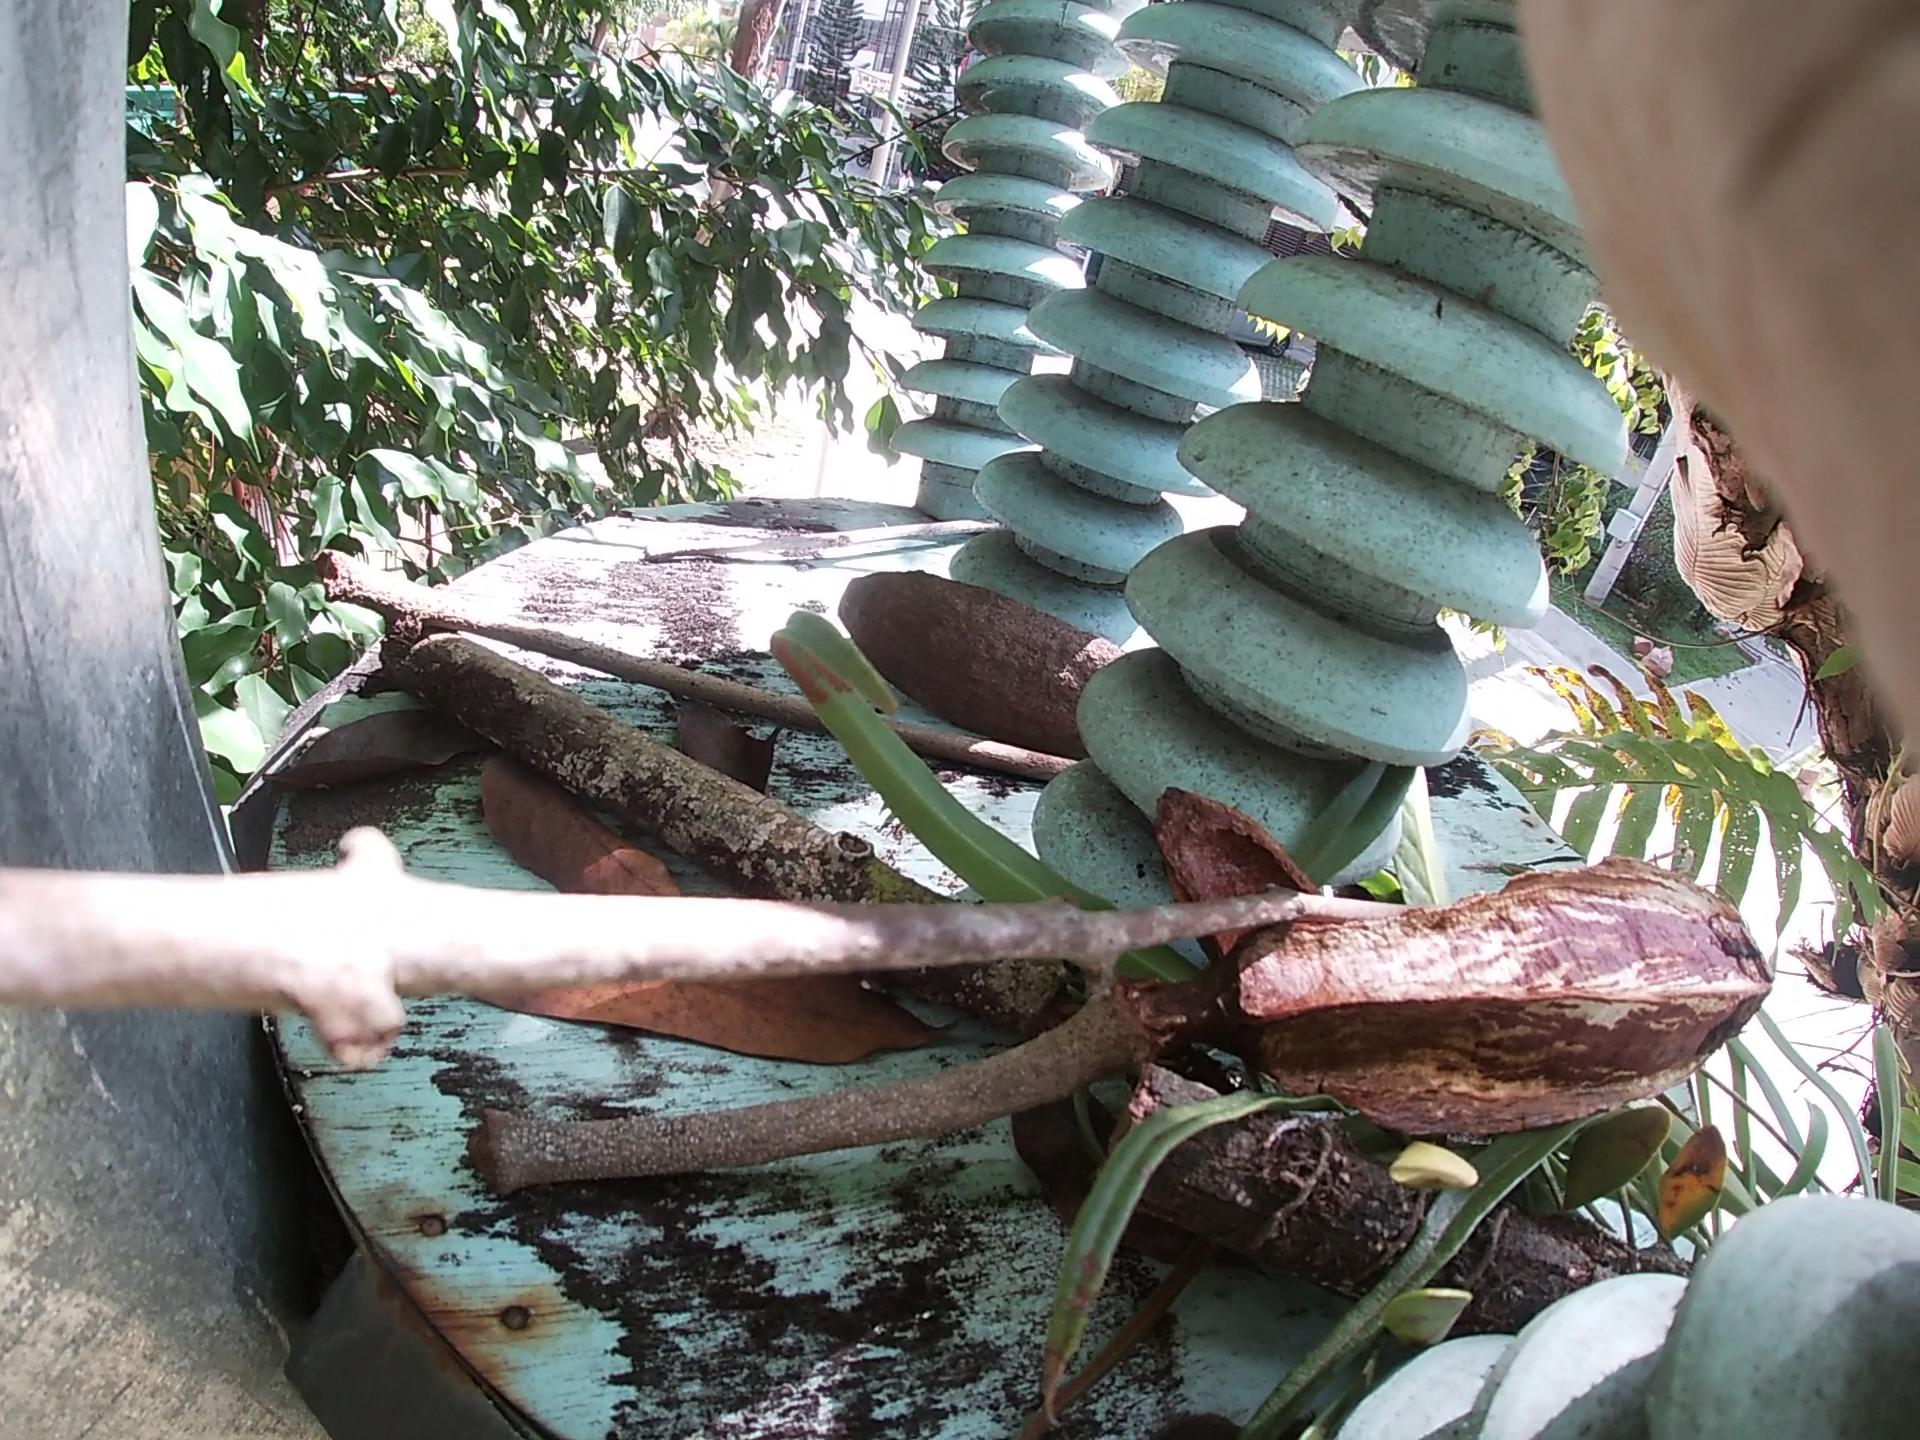branch with leaves: (408, 626, 1596, 1215)
leaf: (441, 729, 883, 1047), (299, 690, 571, 902)
mahogany fruit: (1161, 821, 1838, 1175), (791, 511, 1108, 768), (1120, 756, 1412, 961)
tree branch: (414, 976, 1243, 1156), (317, 557, 1037, 750), (20, 873, 1457, 935), (627, 514, 972, 584)
